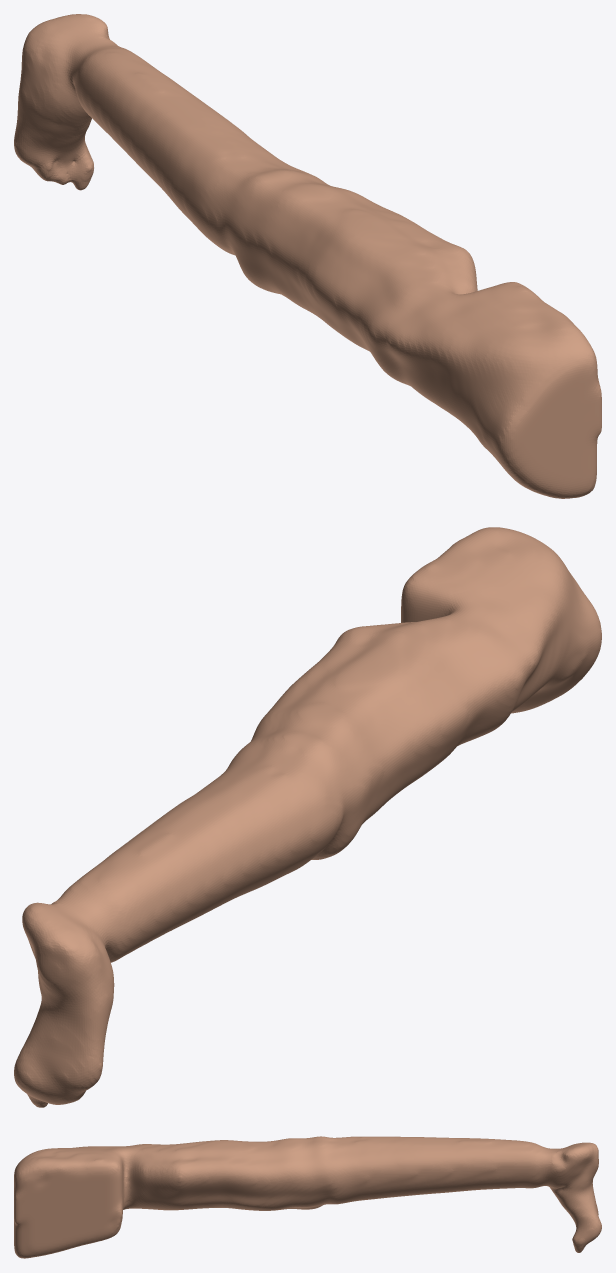
The model's file is lowerextremity_skin.glb.
3 views of the same model, one above another, from view 1: azimuth 30°, elevation 25°; view 2: azimuth 150°, elevation 25°; view 3: azimuth 270°, elevation 25° (orthographic). The views are drawn at different scales.
Visible parts, largest first — view 1: world; view 2: world; view 3: world.
Part boxes in pixels (bbox=[...]): world: bbox=[14, 14, 601, 498]; world: bbox=[14, 527, 601, 1107]; world: bbox=[14, 1136, 601, 1258].
Size of the model in its own units: 169 by 212 by 1052.
